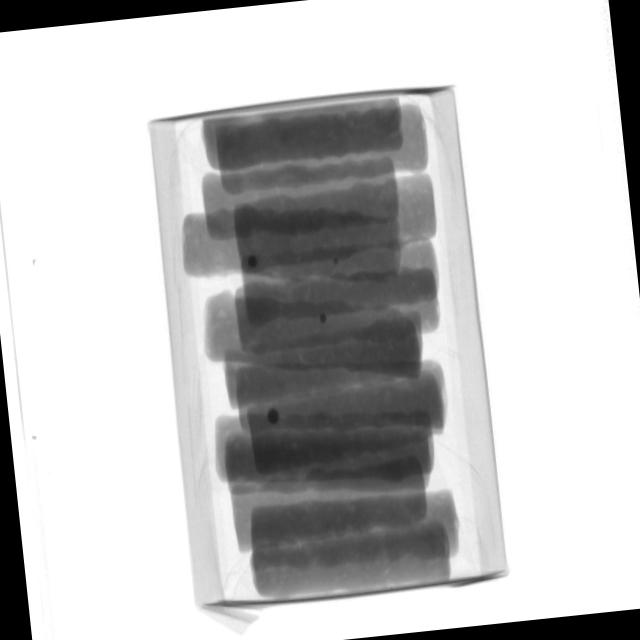ym: (267, 408, 281, 427), (247, 254, 259, 269), (319, 313, 328, 324), (334, 257, 341, 264)
